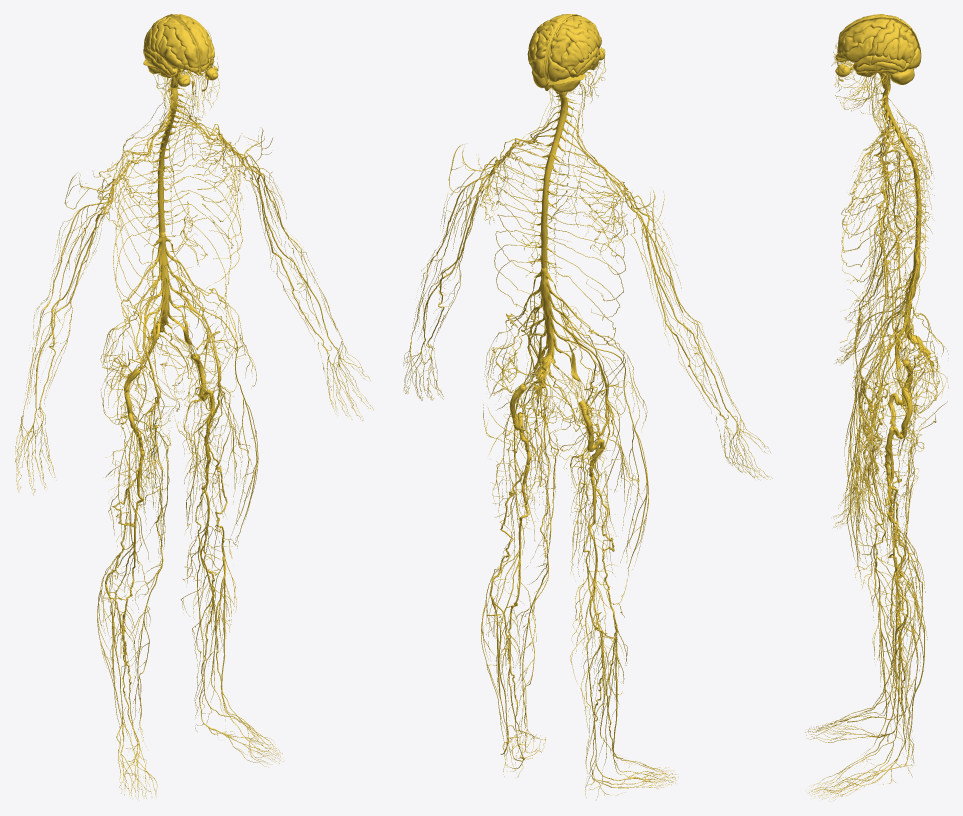
Rendered from nervous.glb.
3 renders of one model, left to right at view 1: azimuth 30°, elevation 25°; view 2: azimuth 150°, elevation 25°; view 3: azimuth 270°, elevation 25°, orthographic. The views are drawn at different scales.
Parts seen in each view (by area): view 1: W_ZA985B873E, W_ZAFF4D5DA0, W_ZA9DB7973F, W_ZA743C006C, W_ZA66428FED, W_ZAEC361466, W_ZA00FBF7A8, W_ZAFDB77A76, W_ZACEB07384, W_ZA8C967A4A, W_ZA81E13E9A, W_ZAD250CB8C (+1 smaller); view 2: W_ZAFF4D5DA0, W_ZA743C006C, W_ZA9DB7973F, W_ZA985B873E, W_ZA66428FED, W_ZAEC361466, W_ZA81E13E9A, W_ZACEB07384, W_ZA00FBF7A8, W_ZA8C967A4A, W_ZAFDB77A76, W_ZA38E0C7CB (+1 smaller); view 3: W_ZAFF4D5DA0, W_ZAEC361466, W_ZA985B873E, W_ZACEB07384, W_ZA743C006C, W_ZAFDB77A76, W_ZA81E13E9A, W_ZA66428FED, W_ZA9DB7973F, W_ZA00FBF7A8, W_ZA62598DE8, W_ZAD250CB8C (+31 smaller).
Boxes of the visible parts, bbox=[...] form: W_ZA985B873E: bbox=[101, 461, 149, 737]; W_ZAFF4D5DA0: bbox=[187, 443, 221, 716]; W_ZA9DB7973F: bbox=[149, 232, 177, 363]; W_ZA743C006C: bbox=[153, 86, 182, 243]; W_ZA66428FED: bbox=[112, 368, 157, 511]; W_ZAEC361466: bbox=[183, 353, 222, 497]; W_ZA00FBF7A8: bbox=[105, 290, 150, 572]; W_ZAFDB77A76: bbox=[184, 283, 258, 548]; W_ZACEB07384: bbox=[180, 536, 234, 721]; W_ZA8C967A4A: bbox=[118, 387, 165, 553]; W_ZA81E13E9A: bbox=[126, 548, 163, 747]; W_ZAD250CB8C: bbox=[205, 359, 253, 525]; W_ZAFF4D5DA0: bbox=[486, 465, 534, 756]; W_ZA743C006C: bbox=[537, 92, 571, 270]; W_ZA9DB7973F: bbox=[532, 267, 562, 415]; W_ZA985B873E: bbox=[575, 484, 617, 775]; W_ZA66428FED: bbox=[570, 400, 607, 539]; W_ZAEC361466: bbox=[496, 384, 543, 523]; W_ZA81E13E9A: bbox=[570, 565, 623, 782]; W_ZACEB07384: bbox=[511, 552, 548, 767]; W_ZA00FBF7A8: bbox=[568, 319, 648, 580]; W_ZA8C967A4A: bbox=[593, 385, 644, 562]; W_ZAFDB77A76: bbox=[488, 313, 534, 554]; W_ZA38E0C7CB: bbox=[541, 374, 618, 461]; W_ZAFF4D5DA0: bbox=[886, 475, 924, 756]; W_ZAEC361466: bbox=[880, 388, 919, 527]; W_ZA985B873E: bbox=[890, 447, 921, 723]; W_ZACEB07384: bbox=[862, 555, 918, 764]; W_ZA743C006C: bbox=[881, 85, 921, 252]; W_ZAFDB77A76: bbox=[845, 310, 907, 584]; W_ZA81E13E9A: bbox=[863, 539, 916, 734]; W_ZA66428FED: bbox=[880, 360, 918, 505]; W_ZA9DB7973F: bbox=[902, 247, 934, 380]; W_ZA00FBF7A8: bbox=[844, 291, 907, 537]; W_ZA62598DE8: bbox=[864, 567, 923, 758]; W_ZAD250CB8C: bbox=[852, 387, 875, 564].
Size of the model in its own units: 0.8013 by 1.59 by 0.2833.
